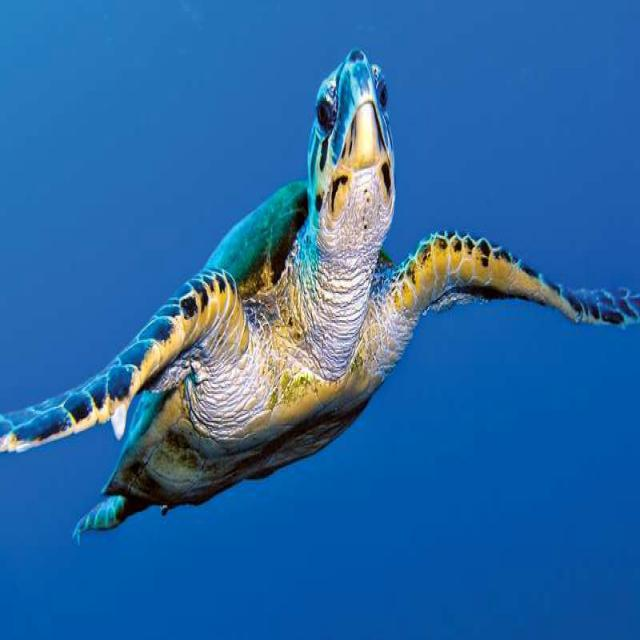turtle: (1, 50, 640, 540)
